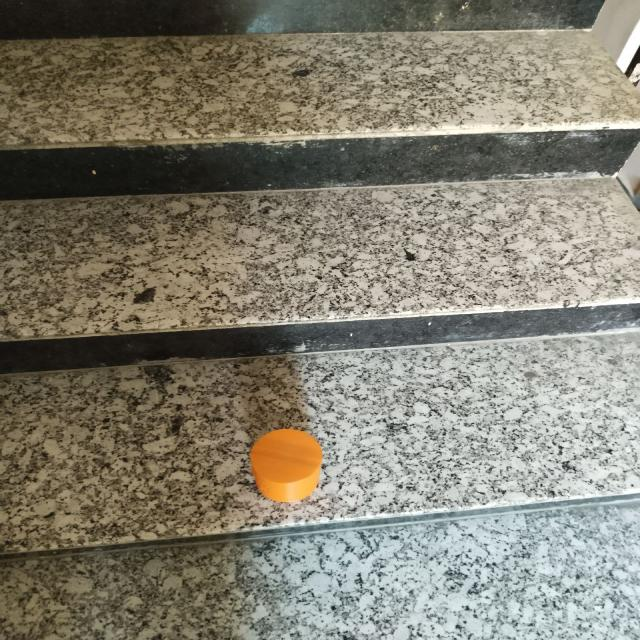Cylinder: (248, 428, 322, 502)
